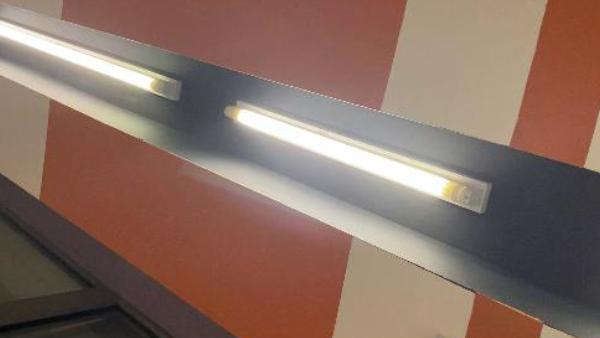light_on: (225, 92, 495, 220), (0, 4, 193, 113)
